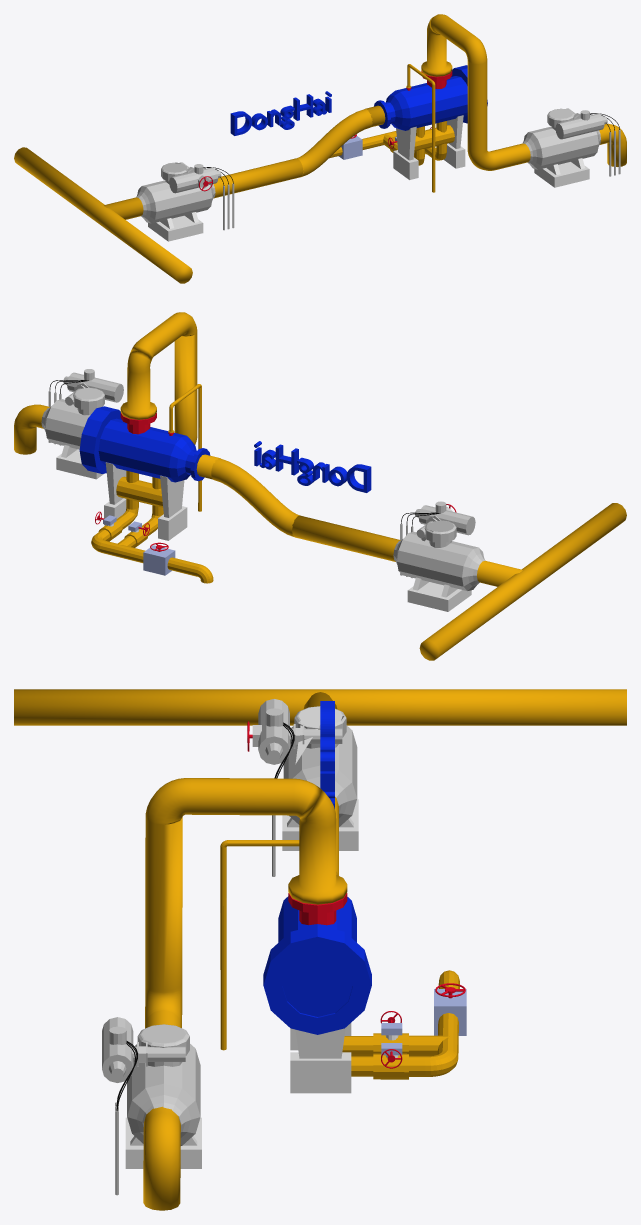
The picture shows the model from 3 angles, top to bottom: view 1: azimuth 30°, elevation 25°; view 2: azimuth 150°, elevation 25°; view 3: azimuth 270°, elevation 25°; orthographic projection. The views are drawn at different scales.
Parts seen in each view (by area): view 1: 柱体.039, machine2, 柱体, machine1, 柱体.018, 柱体.001, 文本, 贝塞尔曲线.003, machine1.002, 柱体.020, 柱体.037, 柱体.019 (+5 smaller); view 2: 柱体.039, 柱体.018, 柱体, machine1, machine2, 柱体.001, 文本, 贝塞尔曲线.003, 柱体.020, machine1.002, 柱体.019, 立方体.005 (+5 smaller); view 3: 柱体.039, 柱体, 柱体.018, machine2, machine1, 柱体.020, 立方体.004, 柱体.037, 柱体.021, 文本, 立方体.006, machine1.002 (+2 smaller).
Part boxes in pixels (left/top/right/bottom): 柱体.039: left=421, top=14, right=626, bottom=170; machine2: left=523, top=108, right=620, bottom=187; 柱体: left=14, top=147, right=192, bottom=283; machine1: left=136, top=162, right=234, bottom=230; 柱体.018: left=374, top=65, right=487, bottom=130; 柱体.001: left=104, top=158, right=303, bottom=219; 文本: left=230, top=91, right=331, bottom=135; 贝塞尔曲线.003: left=297, top=109, right=372, bottom=176; machine1.002: left=148, top=212, right=203, bottom=241; 柱体.020: left=329, top=121, right=446, bottom=160; 柱体.037: left=406, top=64, right=435, bottom=192; 柱体.019: left=414, top=125, right=454, bottom=151; 柱体.039: left=14, top=312, right=197, bottom=454; 柱体.018: left=79, top=406, right=210, bottom=482; 柱体: left=419, top=503, right=626, bottom=660; machine1: left=393, top=501, right=485, bottom=590; machine2: left=41, top=369, right=123, bottom=479; 柱体.001: left=291, top=515, right=522, bottom=586; 文本: left=254, top=441, right=371, bottom=492; 贝塞尔曲线.003: left=211, top=458, right=299, bottom=536; 柱体.020: left=91, top=470, right=213, bottom=583; machine1.002: left=407, top=577, right=471, bottom=611; 柱体.019: left=116, top=476, right=162, bottom=507; 立方体.005: left=160, top=475, right=184, bottom=517; 柱体.039: left=143, top=778, right=347, bottom=1210; 柱体: left=14, top=689, right=626, bottom=725; 柱体.018: left=263, top=896, right=371, bottom=1034; machine2: left=102, top=1017, right=201, bottom=1195; machine1: left=252, top=699, right=357, bottom=876; 柱体.020: left=351, top=970, right=459, bottom=1079; 立方体.004: left=290, top=1052, right=351, bottom=1093; 柱体.037: left=220, top=840, right=299, bottom=1050; 柱体.021: left=342, top=1033, right=449, bottom=1056; 文本: left=320, top=701, right=334, bottom=808; 立方体.006: left=295, top=1028, right=345, bottom=1058; machine1.002: left=282, top=799, right=358, bottom=850.
Bounding box in the file's own units: 17.4 × 5.33 × 10.
